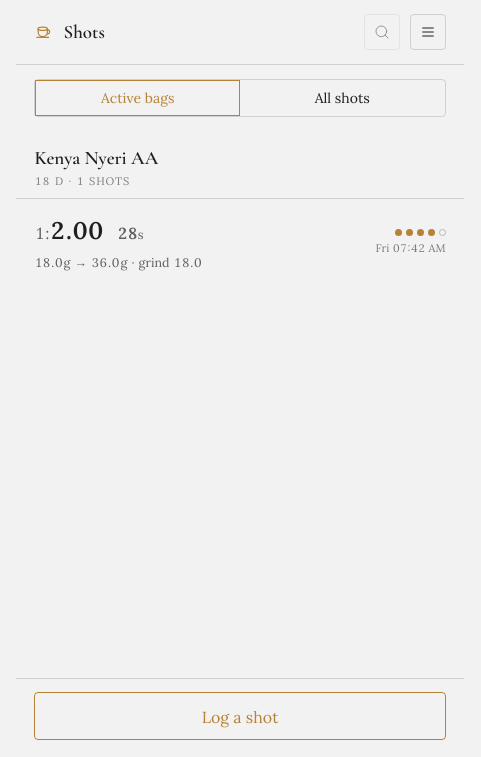
Test: ShotListPage › opens the menu with Trends and Sign out entries
expect the text "Kenya Nyeri AA" is shown: met, box [34, 144, 158, 173]
Click the button named "menu" at [428, 32], box [410, 14, 446, 50]
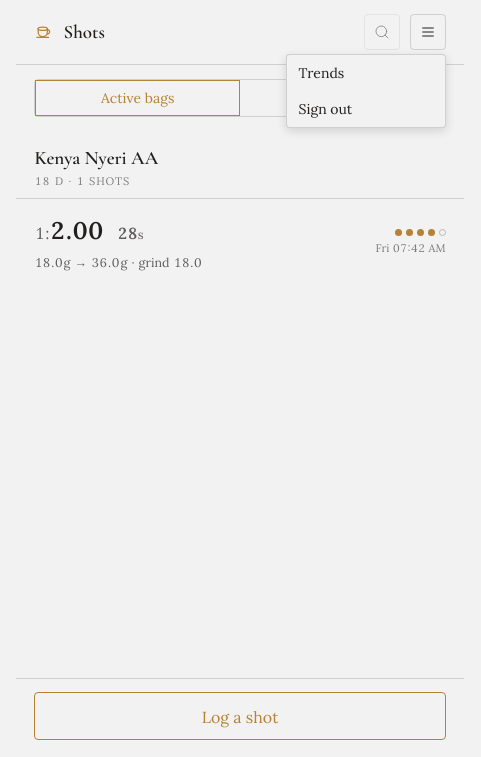
expect the button "Sign out" is shown: met, box [287, 91, 445, 127]
